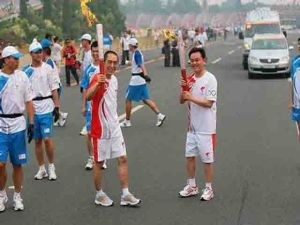fire: (79, 0, 95, 24), (161, 26, 176, 41)
